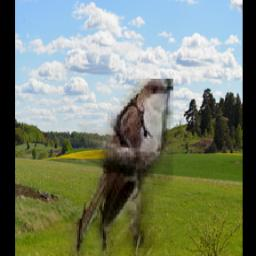Cuckoo: (61, 79, 174, 256)
